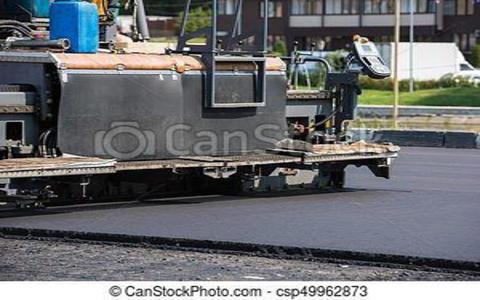Proper road: (220, 196, 473, 250)
